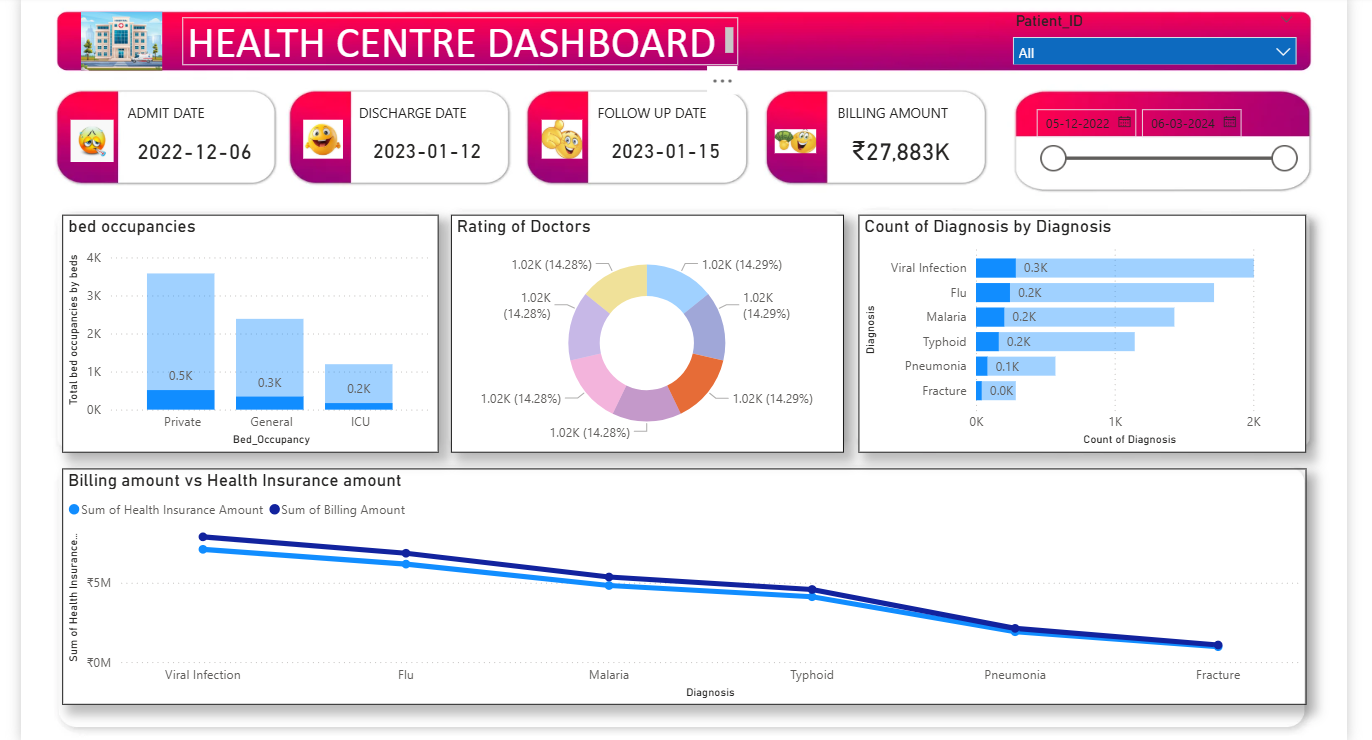

This screenshot's page, from the dashboard's own definition file:
{"tool":"powerbi","page":{"name":"Page 1","canvas":[1280,720],"ordinal":0},"visuals":[{"type":"image","box":[53.5,0,87.8,87.8],"z":0},{"type":"textbox","box":[155.6,20.5,536.9,45.8],"z":1},{"type":"slicer","fields":{"Values":["Sheet1.Patient_ID"]},"box":[946.8,11,293.7,54.9],"z":2},{"type":"card","fields":{"Values":["Min(Sheet1.Admit_Date)"]},"box":[97.7,130.3,139.9,39.8],"z":3},{"type":"textbox","box":[97.7,98.9,139.9,31.4],"z":4},{"type":"card","fields":{"Values":["Min(Sheet1.Discharge_Date)"]},"box":[320.9,130.3,142.4,39.8],"z":5},{"type":"textbox","box":[320.9,98.9,142.4,31.4],"z":6},{"type":"textbox","box":[551.3,98.9,142.4,31.4],"z":7},{"type":"card","fields":{"Values":["Min(Sheet1.Followup Date)"]},"box":[551.3,130.3,142.4,39.8],"z":8},{"type":"textbox","box":[783,98.9,132.7,31.4],"z":9},{"type":"card","fields":{"Values":["Sum(Sheet1.Billing Amount)"]},"box":[783,130.3,132.7,39.8],"z":10},{"type":"slicer","fields":{"Values":["Sheet1.Admit_Date"]},"box":[967.6,98.9,272.7,82],"z":11},{"type":"image","box":[39.8,114.6,57.9,50.7],"z":12},{"type":"image","box":[217.2,114.6,149.6,47.1],"z":13},{"type":"image","box":[475.3,114.6,92.9,47.1],"z":14},{"type":"image","box":[722.7,98.9,49.5,82],"z":15},{"type":"columnChart","title":" bed occupancies ","fields":{"Category":["Sheet1.Bed_Occupancy"],"Y":["CountNonNull(Sheet1.Bed_Occupancy)"]},"box":[39.8,211.1,363.1,229.2],"z":16},{"type":"donutChart","title":"Rating of Doctors","fields":{"Y":["CountNonNull(Sheet1.Doctor)"],"Category":["Sheet1.Doctor"]},"box":[415,211.1,378.8,229.2],"z":17},{"type":"barChart","fields":{"Category":["Sheet1.Diagnosis"],"Y":["CountNonNull(Sheet1.Diagnosis)"]},"box":[808.3,211.1,431.9,229.2],"z":18},{"type":"lineChart","title":"Billing amount vs Health Insurance amount","fields":{"Y":["Sum(Sheet1.Health Insurance Amount)","Sum(Sheet1.Billing Amount)"],"Category":["Sheet1.Diagnosis"]},"box":[39.8,456,1200.4,228],"z":19}]}

Visuals, with their boxes in screenshot pixels (x1, y1, x2, y2):
image: (67, 0, 159, 78)
textbox: (174, 7, 738, 55)
slicer - Sheet1.Patient_ID: (1005, 0, 1314, 55)
card - Min(Sheet1.Admit_Date): (113, 123, 260, 164)
textbox: (113, 90, 260, 123)
card - Min(Sheet1.Discharge_Date): (348, 123, 497, 164)
textbox: (348, 90, 497, 123)
textbox: (590, 90, 739, 123)
card - Min(Sheet1.Followup Date): (590, 123, 739, 164)
textbox: (833, 90, 972, 123)
card - Sum(Sheet1.Billing Amount): (833, 123, 972, 164)
slicer - Sheet1.Admit_Date: (1027, 90, 1313, 176)
image: (53, 106, 113, 159)
image: (239, 106, 396, 156)
image: (510, 106, 607, 156)
image: (770, 90, 822, 176)
" bed occupancies " columnChart: (53, 207, 434, 448)
"Rating of Doctors" donutChart: (447, 207, 844, 448)
barChart - Sheet1.Diagnosis x CountNonNull(Sheet1.Diagnosis): (860, 207, 1313, 448)
"Billing amount vs Health Insurance amount" lineChart: (53, 465, 1313, 704)
